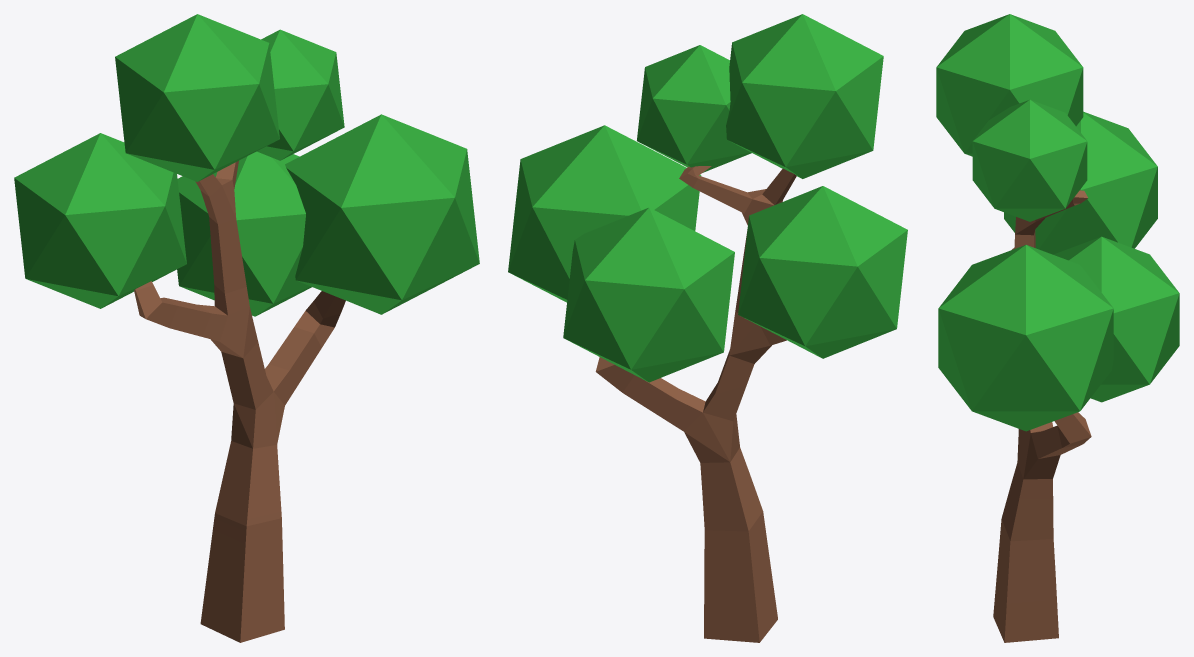
File: Tree2.fbx
3 renders of one model, left to right at view 1: azimuth 30°, elevation 25°; view 2: azimuth 150°, elevation 25°; view 3: azimuth 270°, elevation 25°, orthographic. The views are drawn at different scales.
Parts seen in each view (by area): view 1: Tree Stean; view 2: Tree Stean; view 3: Tree Stean.
Part boxes in pixels (x1,y1,x2,y2): Tree Stean: (14,14,479,642); Tree Stean: (508,14,907,642); Tree Stean: (936,14,1179,642).
Bounding box in the file's own units: 398 × 585 × 218.
